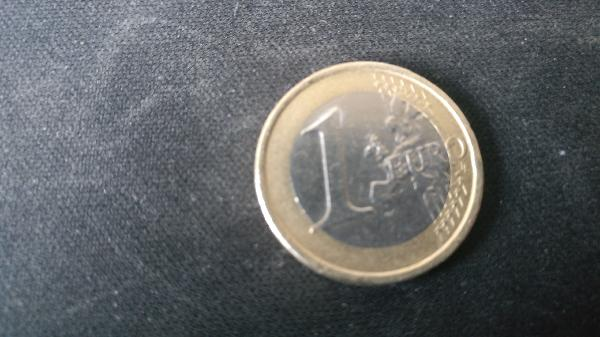One Euro: (253, 61, 492, 288)
